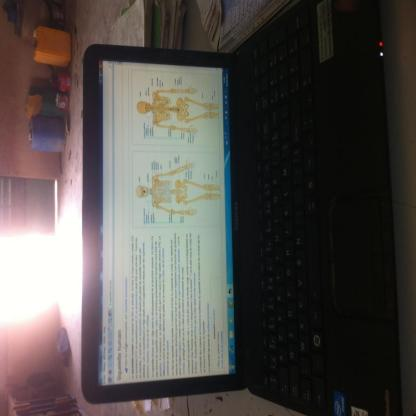board: (83, 0, 397, 416)
